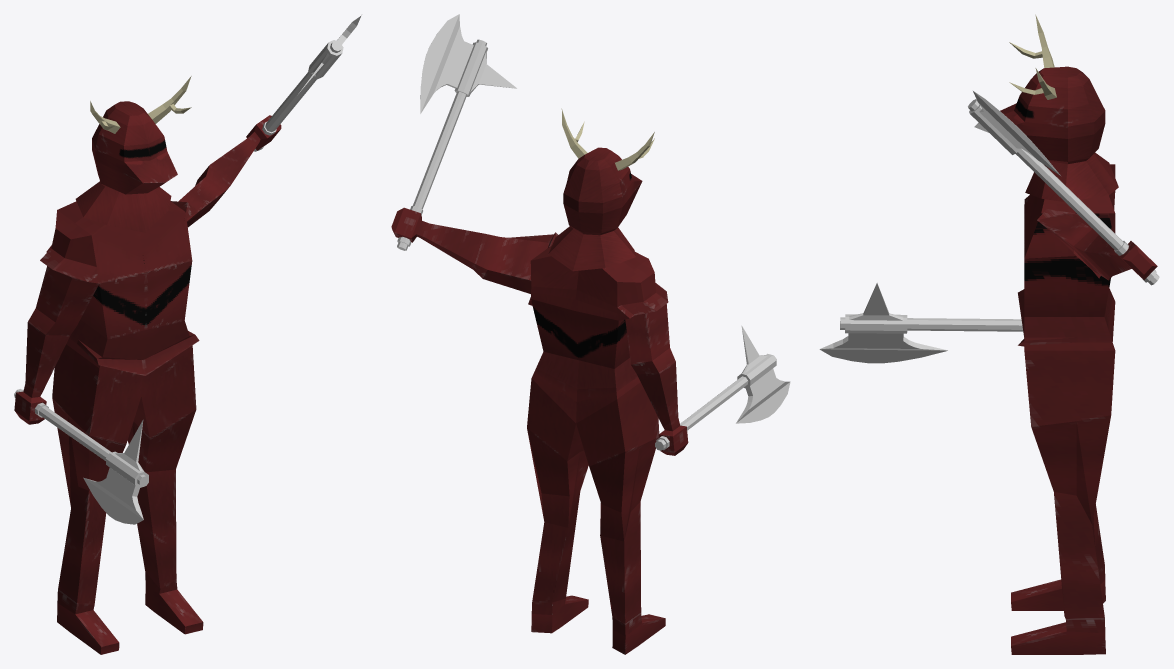
The model's file is red_knight_F2.fbx.
3 renders of one model, left to right at view 1: azimuth 30°, elevation 25°; view 2: azimuth 150°, elevation 25°; view 3: azimuth 270°, elevation 25°, orthographic. The views are drawn at different scales.
Parts seen in each view (by area): view 1: body.002, body.003; view 2: body.002, body.003; view 3: body.002, body.003.
Part boxes in pixels (x1,y1,x2,y2): body.002: (14, 76, 203, 654); body.003: (143, 14, 362, 255); body.002: (527, 108, 790, 654); body.003: (391, 14, 557, 305); body.002: (819, 14, 1118, 654); body.003: (968, 91, 1159, 285).
Bounding box in the file's own units: 121 × 222 × 107.
